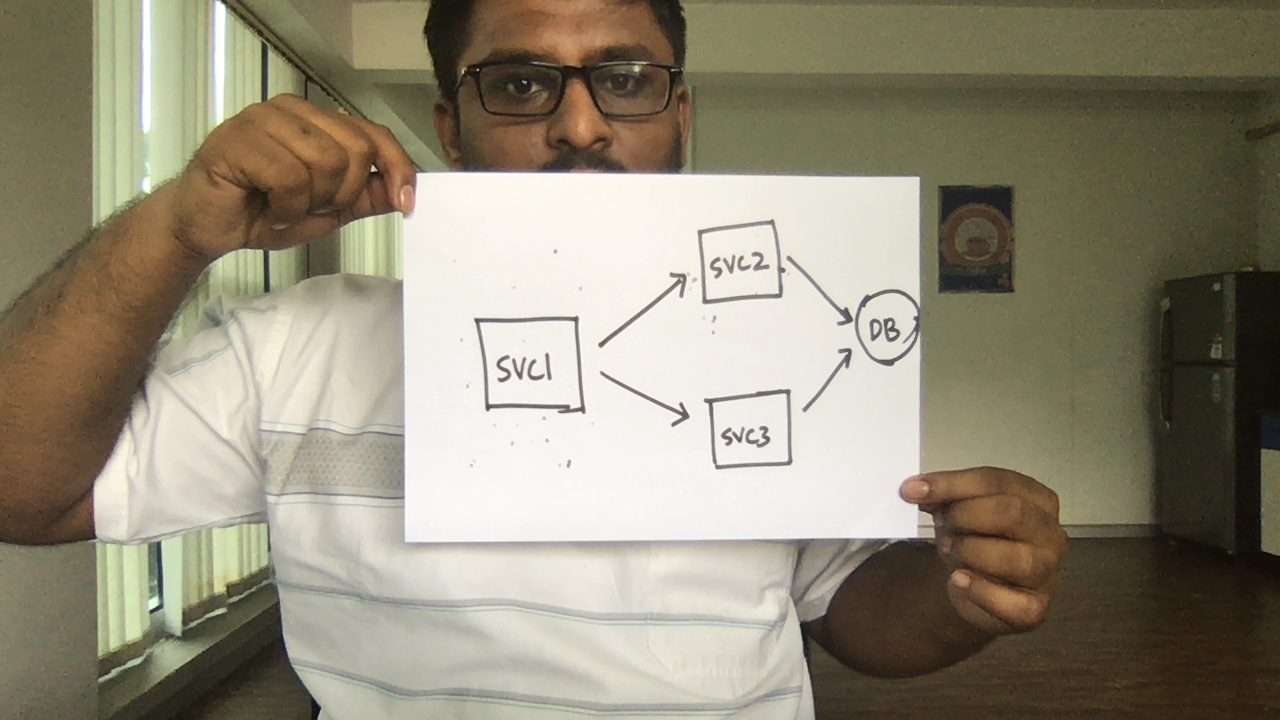arrow: (593, 270, 692, 351), (595, 360, 694, 441), (788, 249, 854, 330), (797, 340, 857, 422)
db: (849, 286, 922, 369)
ec2: (471, 308, 592, 422), (692, 214, 791, 309), (700, 380, 796, 475)
